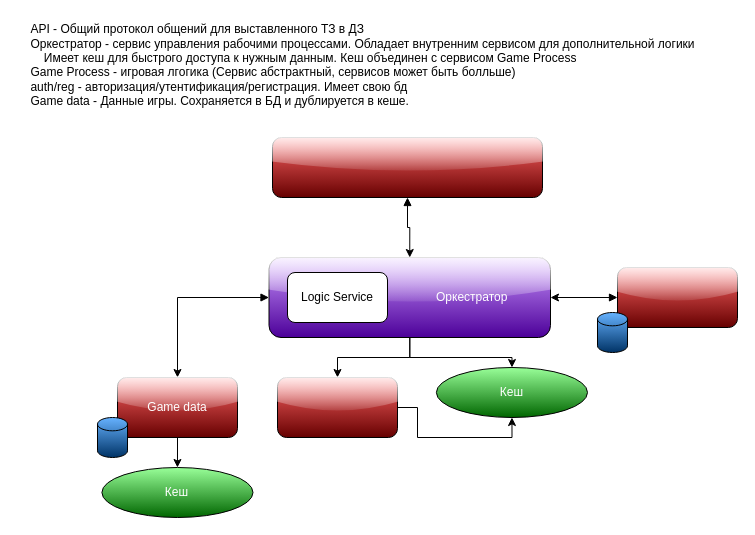
The diagram is 755 pixels wide and 535 high, and some of its shapes have lost their labels. Each missing label, with the centre of its shape:
"API" goes at [407,167].
"auth/reg" goes at [677,297].
"Game Process" goes at [337,407].
